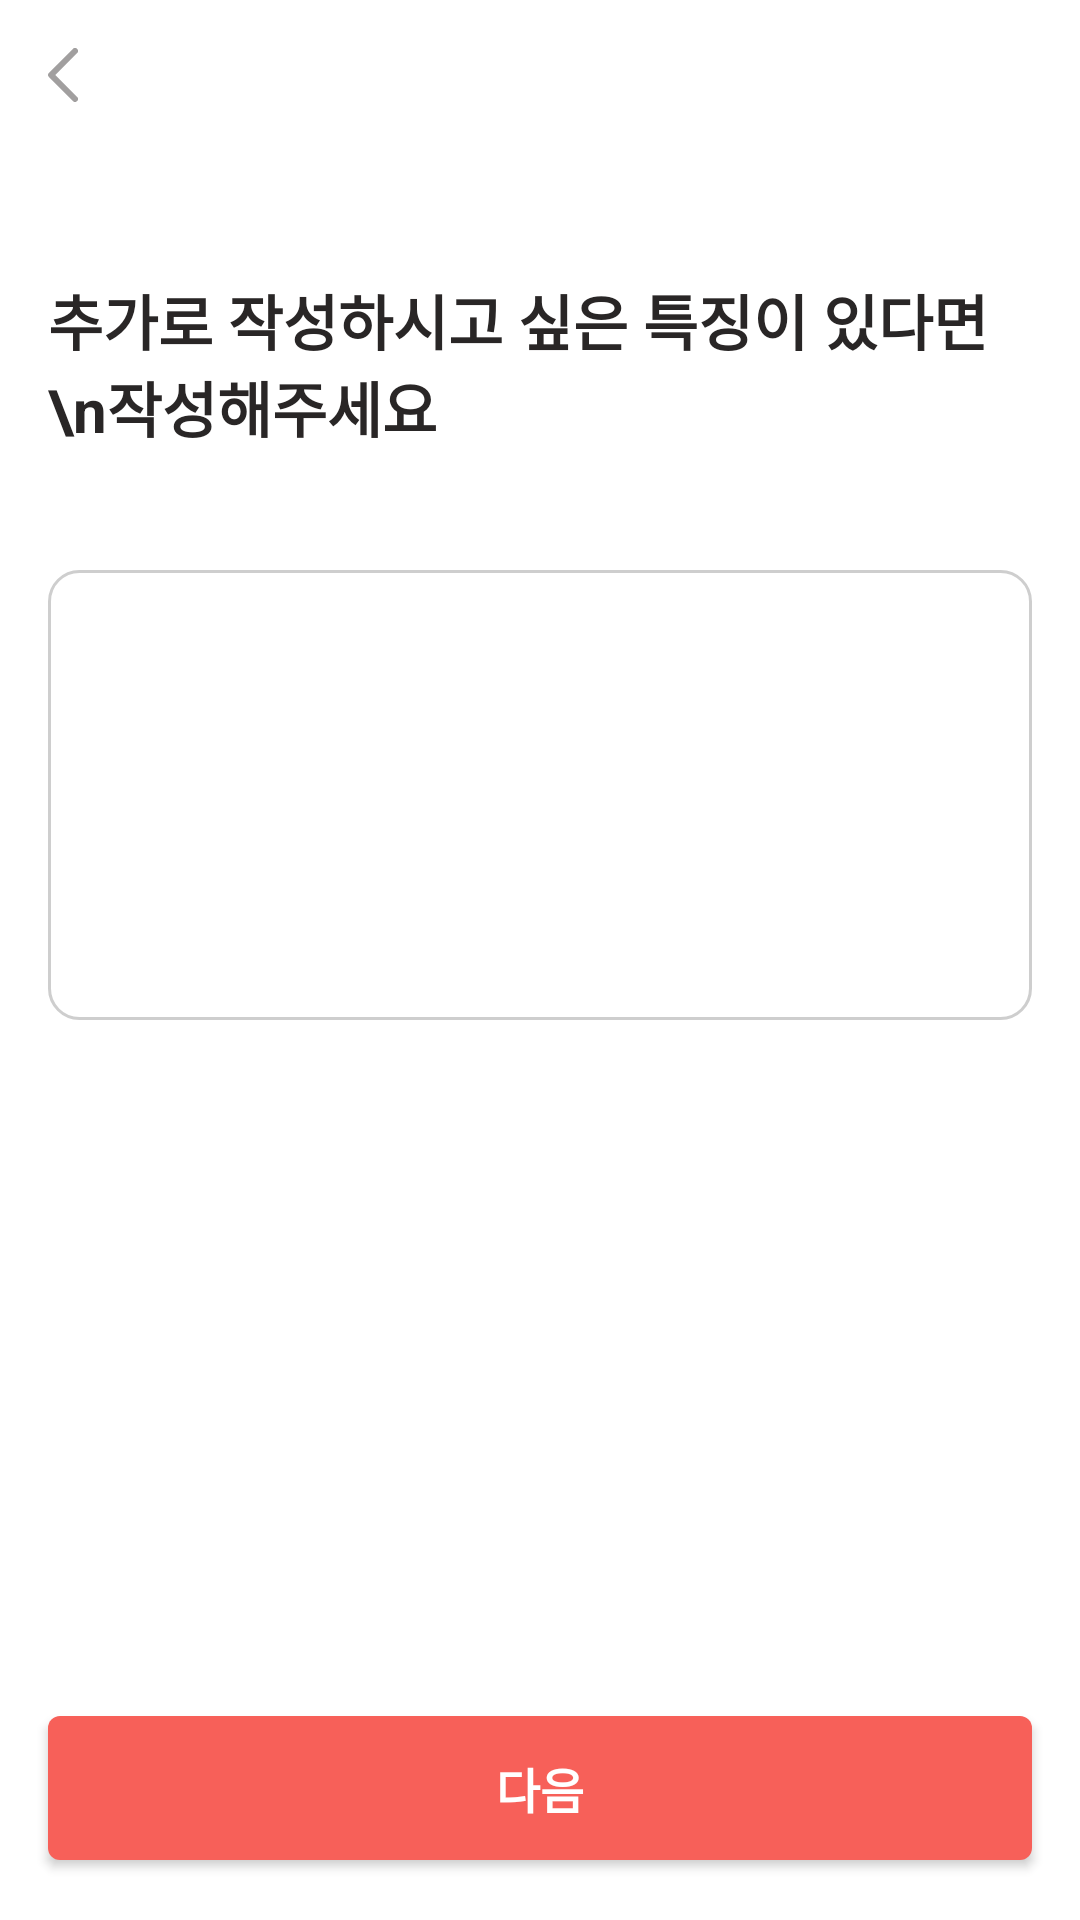

Screen size 1080×1920. Icon name, then its box in pixels as (x1, y1, x2, y2):
back: (48, 48, 78, 102)
